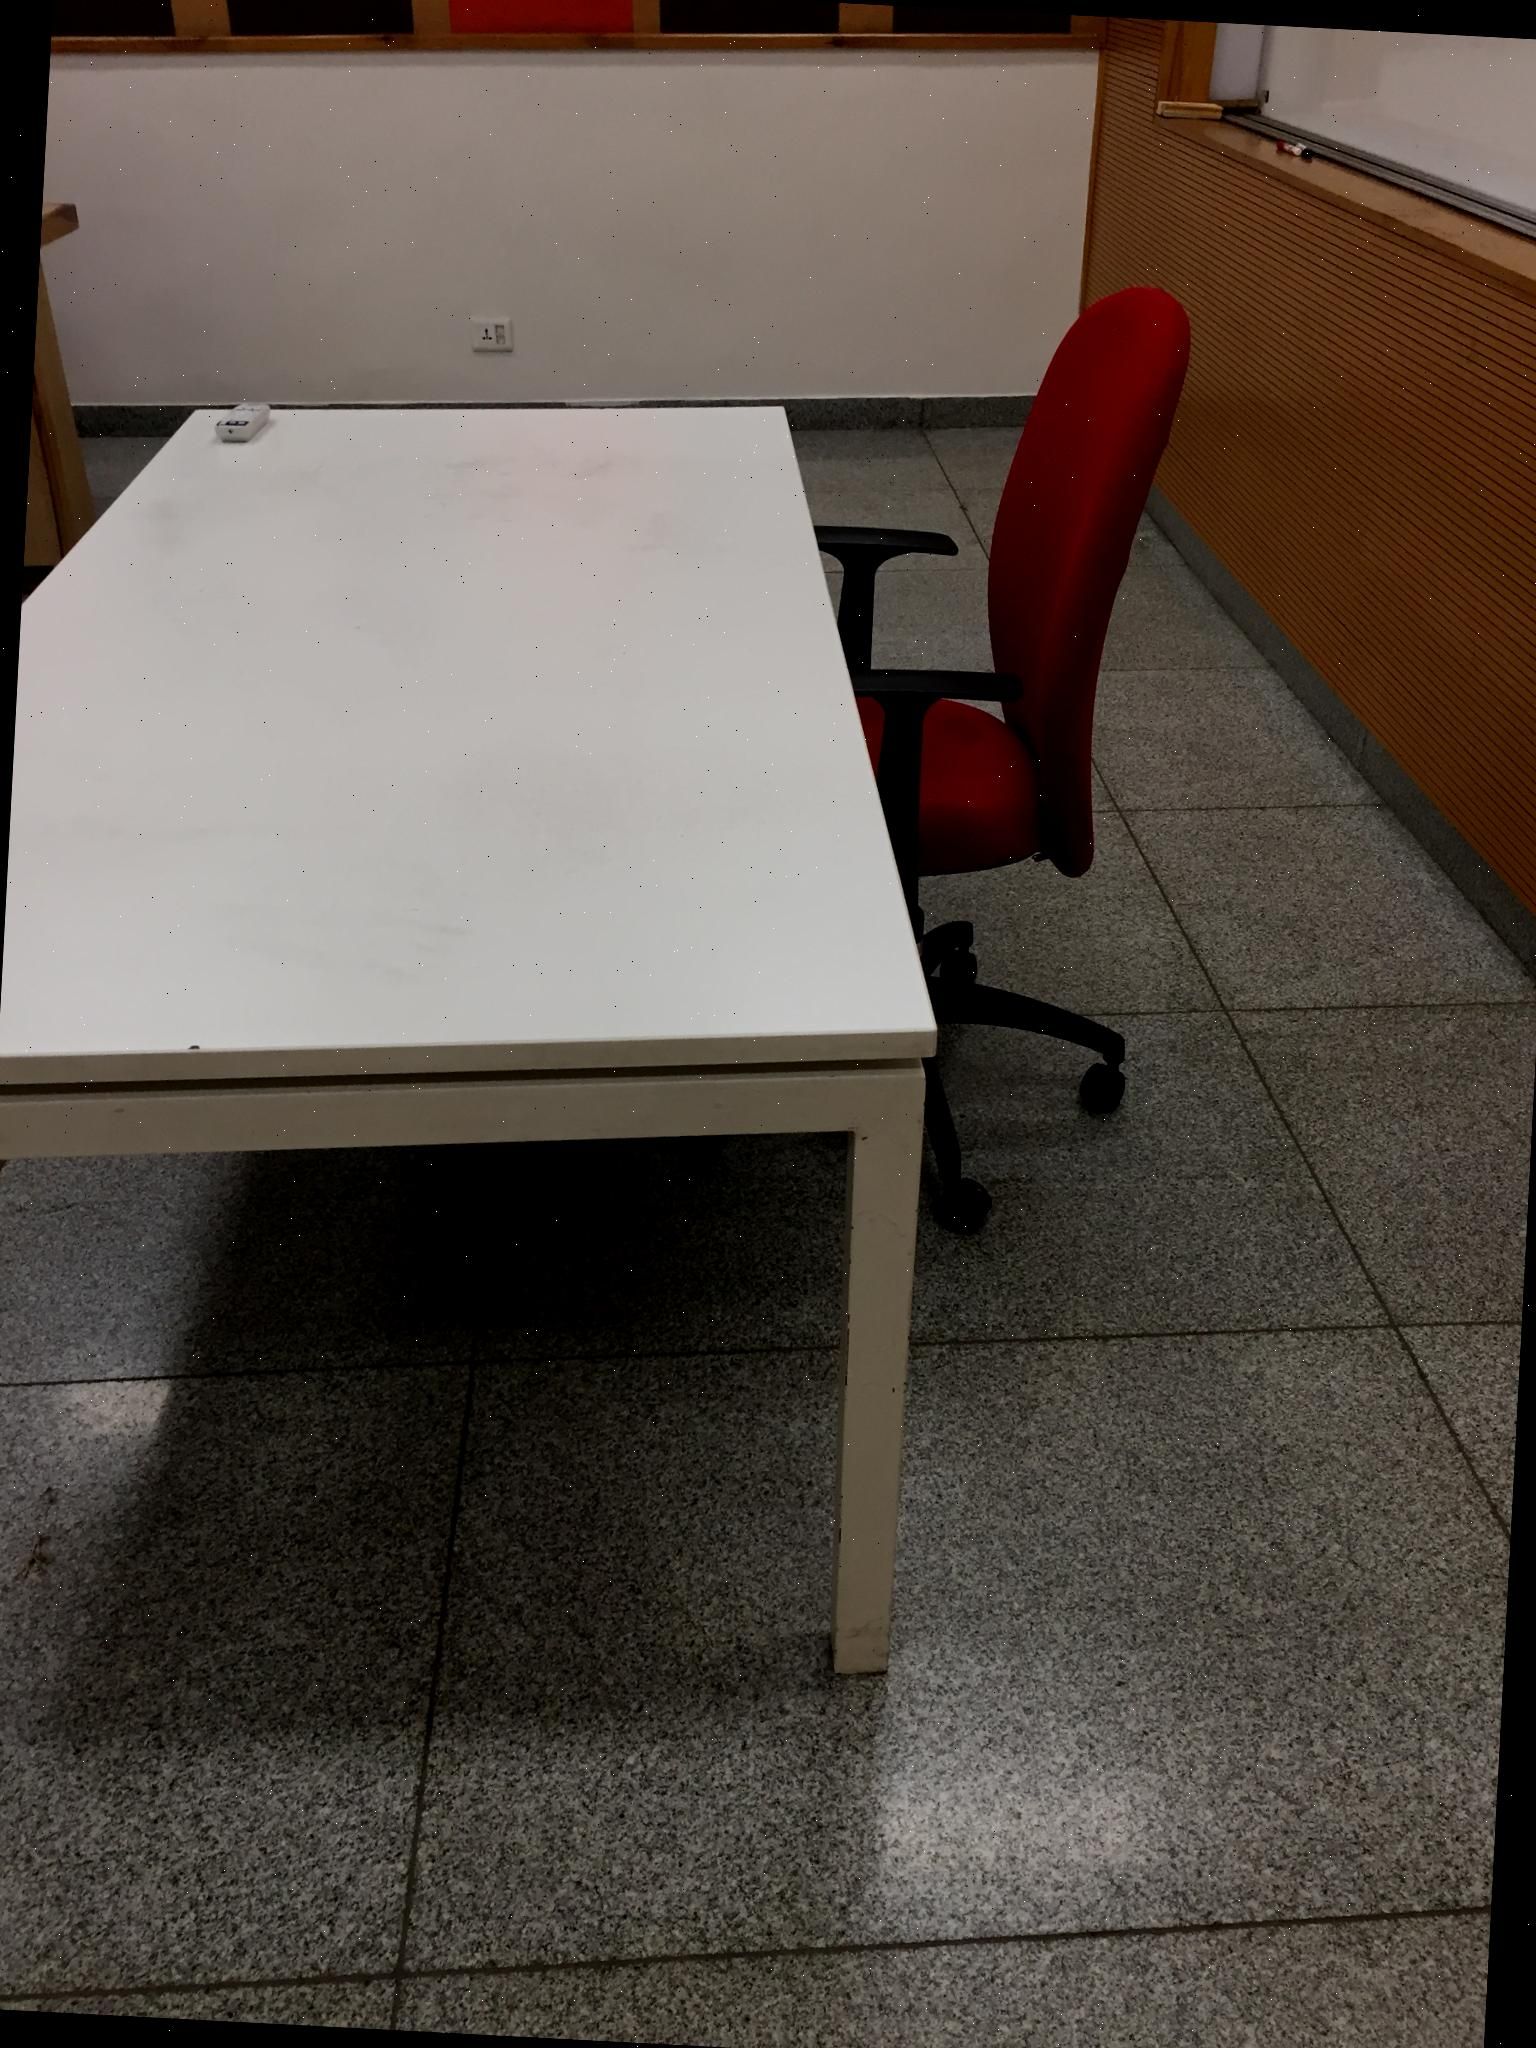chair: (778, 264, 1196, 1242)
